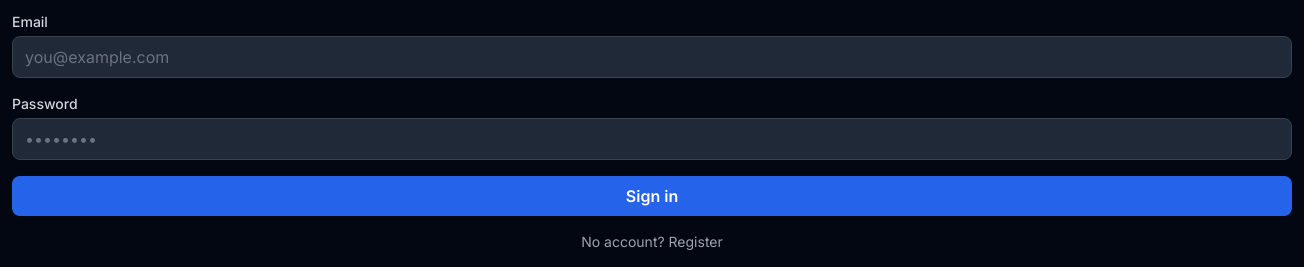
Test: LoginForm › disables button while submitting
Type "alice@example.com" into the field with placeholder "you@example.com" at coordinates (652, 57), box [12,36,1292,78]
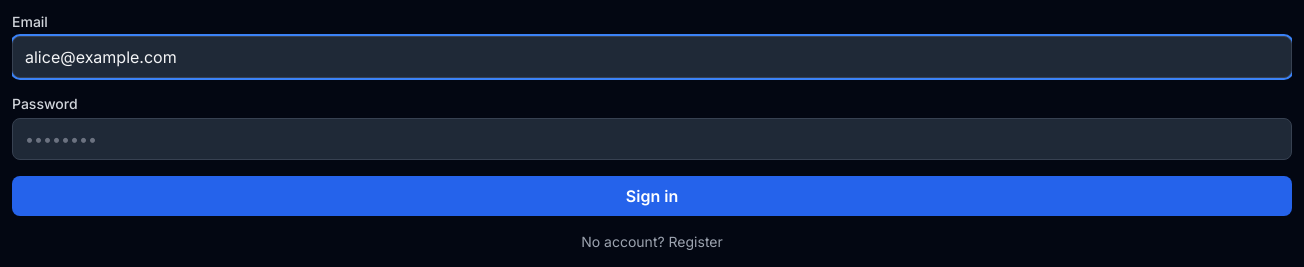
Type "Password1!" into the password field with placeholder "••••••••" at coordinates (652, 139), box [12,118,1292,160]
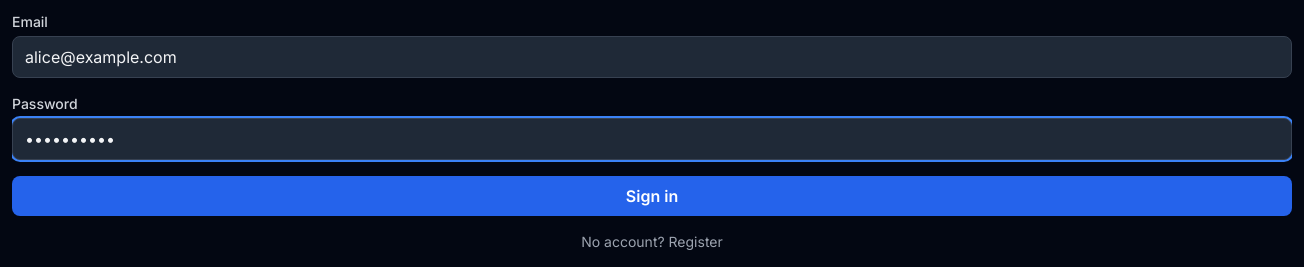
Click the button "Sign in" at coordinates (652, 196), box [12,176,1292,216]
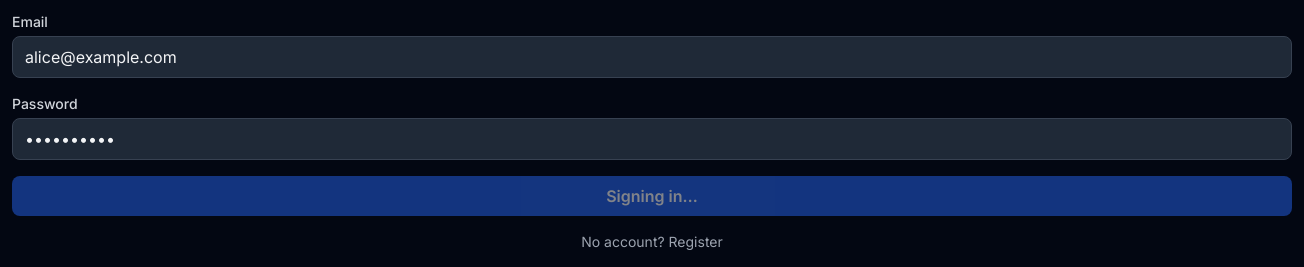
Expected: the button "Signing in…" is disabled, [12,176,1292,216]
